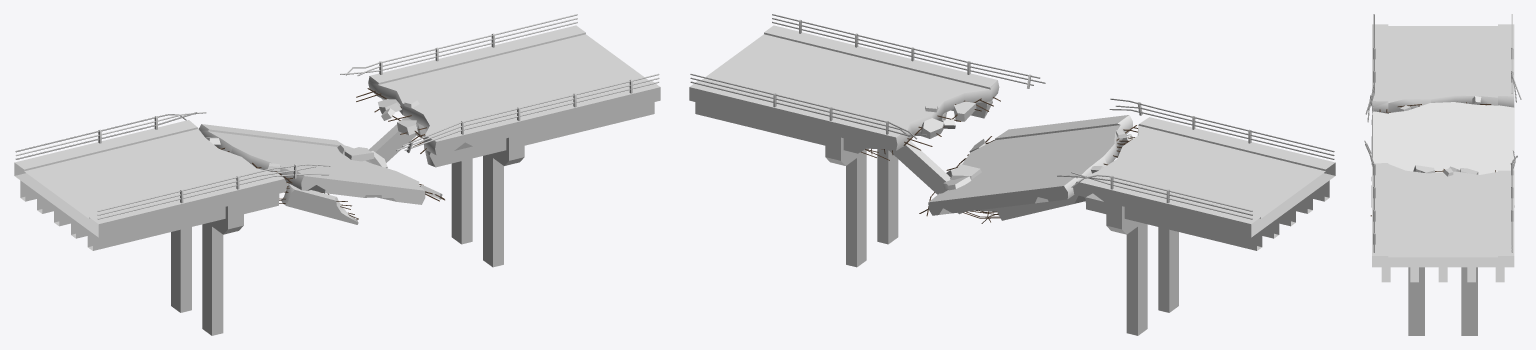
Rendered from overpass_des_LOD1.fbx.
The picture shows the model from 3 angles, left to right: view 1: azimuth 30°, elevation 25°; view 2: azimuth 150°, elevation 25°; view 3: azimuth 270°, elevation 25°; orthographic projection. The views are drawn at different scales.
Visible parts, largest first — view 1: polySurface1926; view 2: polySurface1926; view 3: polySurface1926.
Boxes of the visible parts, <box> form: polySurface1926: <box>14,14,660,335</box>; polySurface1926: <box>689,14,1335,335</box>; polySurface1926: <box>1364,14,1521,335</box>.
Bounding box in the file's own units: 50 × 14.77 × 14.37.
